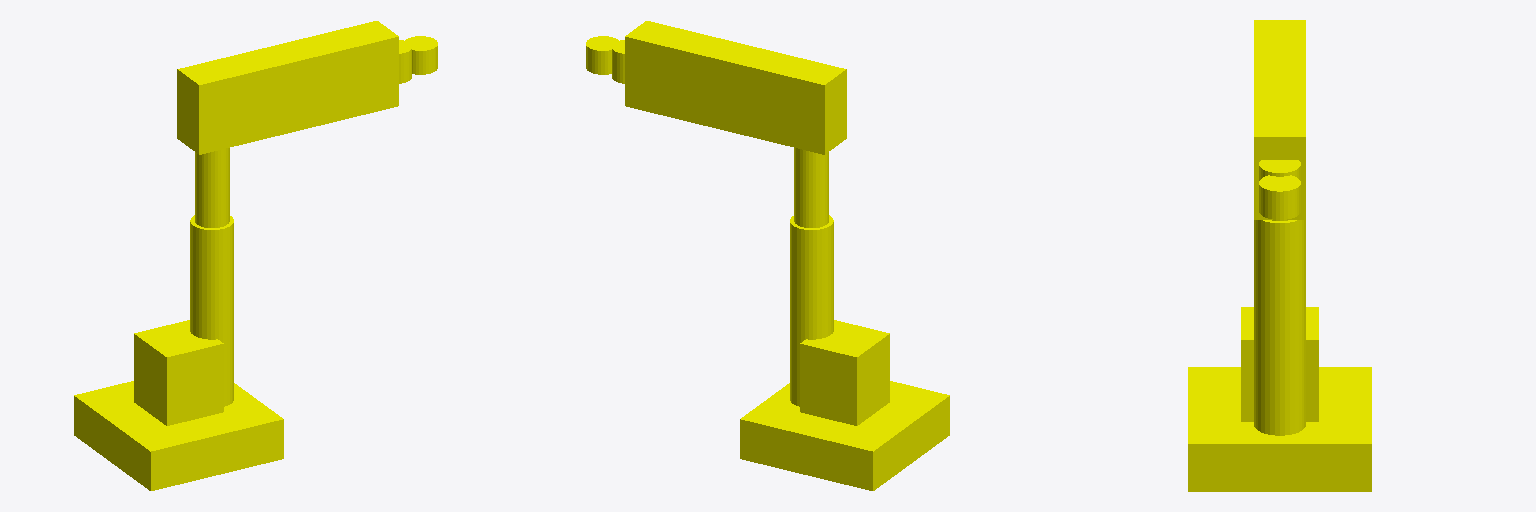
The robot description file, URDF, robot "abb_irb4600_60_205":
<?xml version="1.0" ?>
<!-- =================================================================================== -->
<!-- |    This document was autogenerated by xacro from urdf/irb4600_60_205.xacro      | -->
<!-- |    EDITING THIS FILE BY HAND IS NOT RECOMMENDED                                 | -->
<!-- =================================================================================== -->
<robot xmlns:xacro="http://ros.org/wiki/xacro" name="abb_irb4600_60_205">
  <link name="base_link">
    <collision name="collision">
      <geometry>
        <mesh filename="package://abb_irb4600_support/meshes/irb4600_60_205/collision/base_link.stl"/>
      </geometry>
    </collision>
    <visual name="visual">
      <geometry>
        <box size="0.7 0.7 0.2"/>
        <!-- <mesh filename="package://abb_irb4600_support/meshes/irb4600_60_205/visual/base_link.stl"/> -->
      </geometry>
      <material name="yellow">
        <color rgba="1 1 0 1"/>
      </material>
    </visual>
  </link>
  <link name="link_1">
    <collision name="collision">
      <geometry>
        <mesh filename="package://abb_irb4600_support/meshes/irb4600_60_205/collision/link_1.stl"/>
      </geometry>
    </collision>
    <visual name="visual">
      <geometry>
        <!-- <cylinder length="0.25" radius="0.08"/>   -->
        <box size="0.3 0.3 0.4"/>
        <!-- <mesh filename="package://abb_irb4600_support/meshes/irb4600_60_205/visual/link_1.stl"/> -->
      </geometry>
      <origin xyz="0 0 -0.25" rpy="0 0 0"/>
      <material name="yellow"/>
    </visual>
  </link>
  <link name="link_2">
    <collision name="collision">
      <geometry>
        <mesh filename="package://abb_irb4600_support/meshes/irb4600_60_205/collision/link_2.stl"/>
      </geometry>
    </collision>
    <visual name="visual">
      <geometry>
        <cylinder length="1" radius="0.1"/>
        <!-- <mesh filename="package://abb_irb4600_support/meshes/irb4600_60_205/visual/link_2.stl"/> -->
      </geometry>
      <origin xyz="0 0 0" rpy="0 0 0"/>
      <material name="yellow"/>
    </visual>
  </link>
  <link name="link_3">
    <collision name="collision">
      <geometry>
        <mesh filename="package://abb_irb4600_support/meshes/irb4600_60_205/collision/link_3.stl"/>
      </geometry>
    </collision>
    <visual name="visual">
      <geometry>
        <cylinder length="0.4" radius="0.08"/>
        <!-- <mesh filename="package://abb_irb4600_support/meshes/irb4600_60_205/visual/link_3.stl"/> -->
      </geometry>
      <origin xyz="0 0 -0.2" rpy="0 0 0"/>
      <material name="yellow"/>
    </visual>
  </link>
  <link name="link_4">
    <collision name="collision">
      <geometry>
        <mesh filename="package://abb_irb4600_support/meshes/irb4600_60_205/collision/link_4.stl"/>
      </geometry>
    </collision>
    <visual name="visual">
      <geometry>
        <!-- <cylinder length="0.7" radius="0.08"/> -->
        <box size="1.05 0.2 0.35"/>
        <!-- <mesh filename="package://abb_irb4600_support/meshes/irb4600_60_205/visual/link_4.stl"/> -->
      </geometry>
      <origin xyz="0.4 0 0" rpy="0 0 0"/>
      <material name="yellow"/>
    </visual>
  </link>
  <link name="link_5">
    <collision name="collision">
      <geometry>
        <mesh filename="package://abb_irb4600_support/meshes/irb4600_60_205/collision/link_5.stl"/>
      </geometry>
    </collision>
    <visual name="visual">
      <geometry>
        <cylinder length="0.15" radius="0.08"/>
        <!-- <mesh filename="package://abb_irb4600_support/meshes/irb4600_60_205/visual/link_5.stl"/> -->
      </geometry>
      <material name="yellow"/>
    </visual>
  </link>
  <link name="link_6">
    <collision name="collision">
      <geometry>
        <mesh filename="package://abb_irb4600_support/meshes/irb4600_60_205/collision/link_6.stl"/>
      </geometry>
    </collision>
    <visual name="visual">
      <geometry>
        <cylinder length="0.12" radius="0.08"/>
        <!-- <mesh filename="package://abb_irb4600_support/meshes/irb4600_60_205/visual/link_6.stl"/> -->
      </geometry>
      <material name="yellow"/>
    </visual>
  </link>
  <link name="tool0"/>
  <joint type="revolute" name="joint_1">
    <origin xyz="0 0 0.495" rpy="0 0 0"/>
    <!-- <origin xyz="0 0 0.595" rpy="0 0 0"/> -->
    <axis xyz="0 0 1"/>
    <parent link="base_link"/>
    <child link="link_1"/>
    <limit effort="0" lower="-3.141" upper="3.141" velocity="3.054"/>
  </joint>
  <joint type="revolute" name="joint_2">
    <origin xyz="0.175 0 0" rpy="0 0 0"/>
    <!-- <origin xyz="0.275 0 0" rpy="0 0 0"/> -->
    <axis xyz="0 1 0"/>
    <parent link="link_1"/>
    <child link="link_2"/>
    <limit effort="0" lower="-1.570" upper="2.617" velocity="3.054"/>
  </joint>
  <joint type="revolute" name="joint_3">
    <origin xyz="0 0 0.9" rpy="0 0 0"/>
    <axis xyz="0 1 0"/>
    <parent link="link_2"/>
    <child link="link_3"/>
    <limit effort="0" lower="-3.141" upper="1.308" velocity="3.054"/>
  </joint>
  <joint type="revolute" name="joint_4">
    <origin xyz="0 0 0.175" rpy="0 0 0"/>
    <axis xyz="1 0 0"/>
    <parent link="link_3"/>
    <child link="link_4"/>
    <limit effort="0" lower="-6.981" upper="6.981" velocity="4.363"/>
  </joint>
  <joint type="revolute" name="joint_5">
    <origin xyz="0.960 0 0 " rpy="0 0 0"/>
    <axis xyz="0 1 0"/>
    <parent link="link_4"/>
    <child link="link_5"/>
    <limit effort="0" lower="-2.181" upper="2.094" velocity="4.363"/>
  </joint>
  <joint type="revolute" name="joint_6">
    <origin xyz="0.135 0 0 " rpy="0 0 0"/>
    <axis xyz="1 0 0"/>
    <parent link="link_5"/>
    <child link="link_6"/>
    <limit effort="0" lower="-6.981" upper="6.981" velocity="6.283"/>
  </joint>
  <joint type="fixed" name="joint_6-tool0">
    <parent link="link_6"/>
    <child link="tool0"/>
    <origin xyz="0 0 0" rpy="0 1.57079632679 0"/>
  </joint>
  <link name="base"/>
  <joint name="base_link-base" type="fixed">
    <origin xyz="0 0 0" rpy="0 0 0"/>
    <parent link="base_link"/>
    <child link="base"/>
  </joint>
</robot>

--- Render facts (derived) ---
The picture shows the robot from 3 angles, left to right: view 1: azimuth 30°, elevation 25°; view 2: azimuth 150°, elevation 25°; view 3: azimuth 270°, elevation 25°; orthographic projection.
Robot: abb_irb4600_60_205 — 9 links, 8 joints (6 revolute, 2 fixed); root link base_link; default pose: every joint at zero.
Links seen in each view (by area): view 1: link_4, base_link, link_1, link_2, link_3, link_6, link_5; view 2: link_4, base_link, link_1, link_2, link_3, link_6, link_5; view 3: base_link, link_2, link_4, link_1, link_6, link_5.
Boxes of the visible links, x1,y1,x2,y2 form: link_4: [177, 21, 398, 154]; base_link: [74, 381, 283, 490]; link_1: [134, 320, 223, 425]; link_2: [190, 215, 233, 406]; link_3: [195, 148, 229, 227]; link_6: [405, 36, 437, 74]; link_5: [399, 40, 411, 83]; link_4: [625, 21, 846, 154]; base_link: [740, 381, 949, 490]; link_1: [800, 320, 889, 425]; link_2: [790, 215, 833, 406]; link_3: [794, 148, 828, 227]; link_6: [586, 36, 618, 74]; link_5: [612, 40, 624, 83]; base_link: [1188, 367, 1371, 491]; link_2: [1254, 220, 1305, 435]; link_4: [1254, 20, 1305, 219]; link_1: [1241, 307, 1318, 421]; link_6: [1259, 175, 1300, 219]; link_5: [1259, 160, 1300, 180].
Size in the robot's own frame: 1.7 by 0.7 by 1.84 metres.
Geometry: primitives only (box / cylinder / sphere), no mesh files.